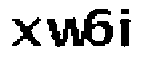6: (83, 6, 114, 48)
i: (117, 6, 141, 48)
w: (47, 16, 88, 49)
x: (7, 15, 45, 52)
